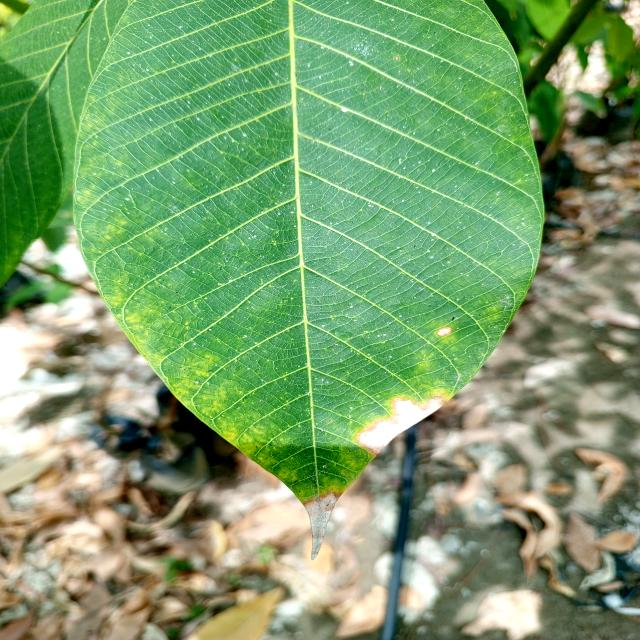Leaf-Blight: (354, 396, 448, 456), (438, 327, 452, 337)
